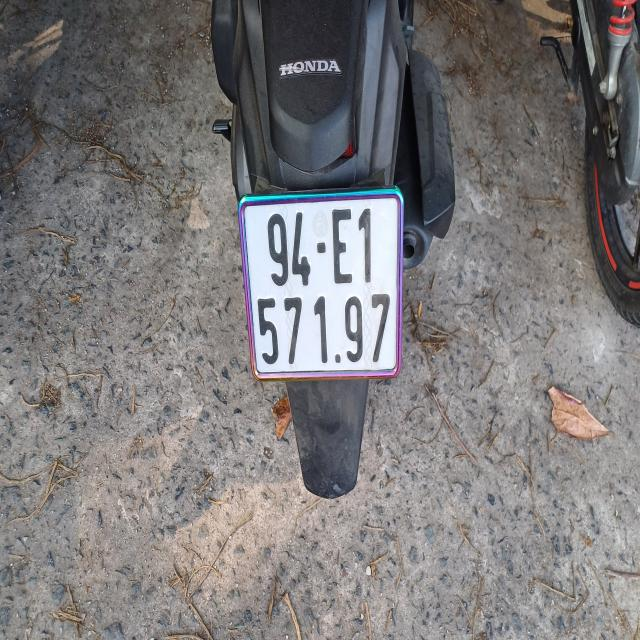1: (358, 207, 374, 285), (313, 295, 330, 365)
4: (292, 211, 312, 288)
5: (258, 292, 279, 367)
7: (283, 295, 305, 365), (371, 292, 391, 366)
9: (267, 213, 291, 288), (346, 294, 364, 364)
E: (331, 207, 354, 287)
